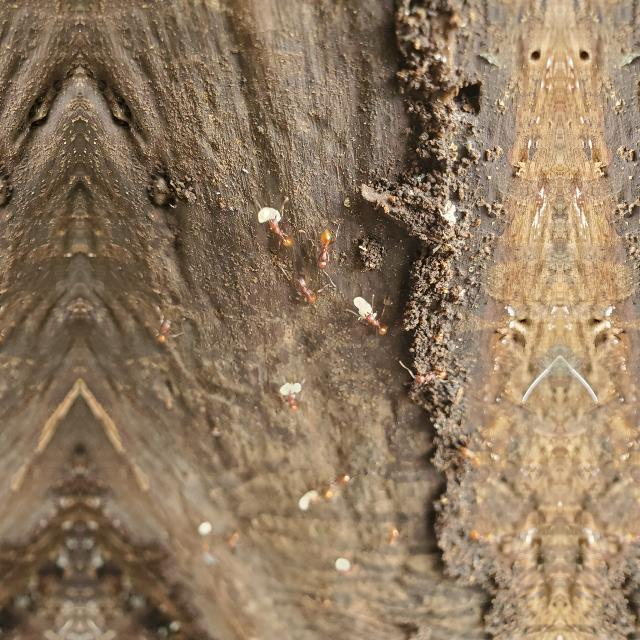Apheanogaster: (293, 462, 359, 522), (280, 270, 334, 310), (352, 300, 391, 344), (264, 210, 298, 254), (312, 223, 338, 273)
